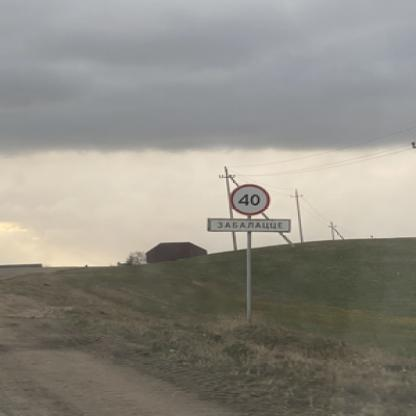speedlimit: (226, 182, 268, 213)
